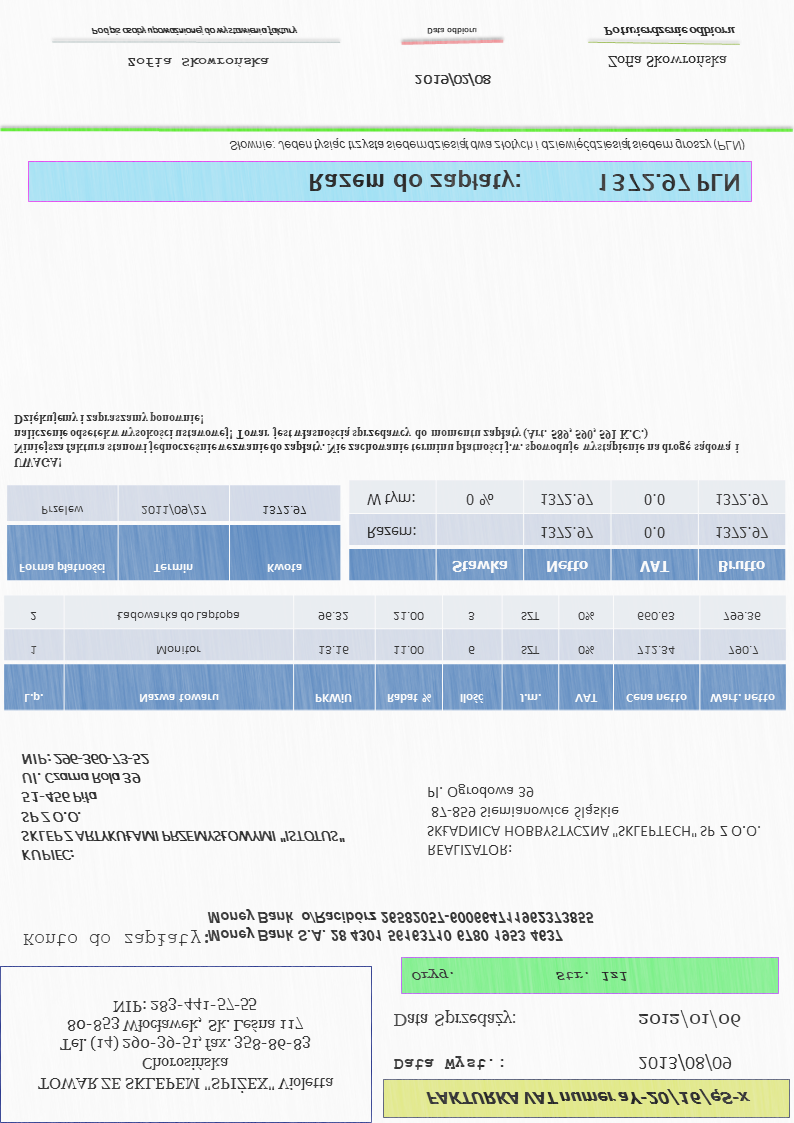Table: (2, 594, 789, 714), (347, 477, 788, 583), (5, 483, 343, 583)
TextBox: (9, 409, 745, 475), (17, 746, 349, 865), (30, 991, 339, 1097), (421, 780, 764, 862), (303, 165, 742, 202), (202, 908, 597, 945), (225, 136, 747, 156), (423, 1087, 757, 1113), (408, 966, 632, 990), (18, 927, 210, 950), (88, 25, 301, 39), (388, 1009, 517, 1032), (388, 1053, 508, 1077), (124, 54, 272, 72), (633, 1009, 743, 1033), (635, 1051, 736, 1077), (605, 52, 734, 72), (599, 24, 738, 38), (411, 71, 495, 91), (423, 21, 480, 40)
